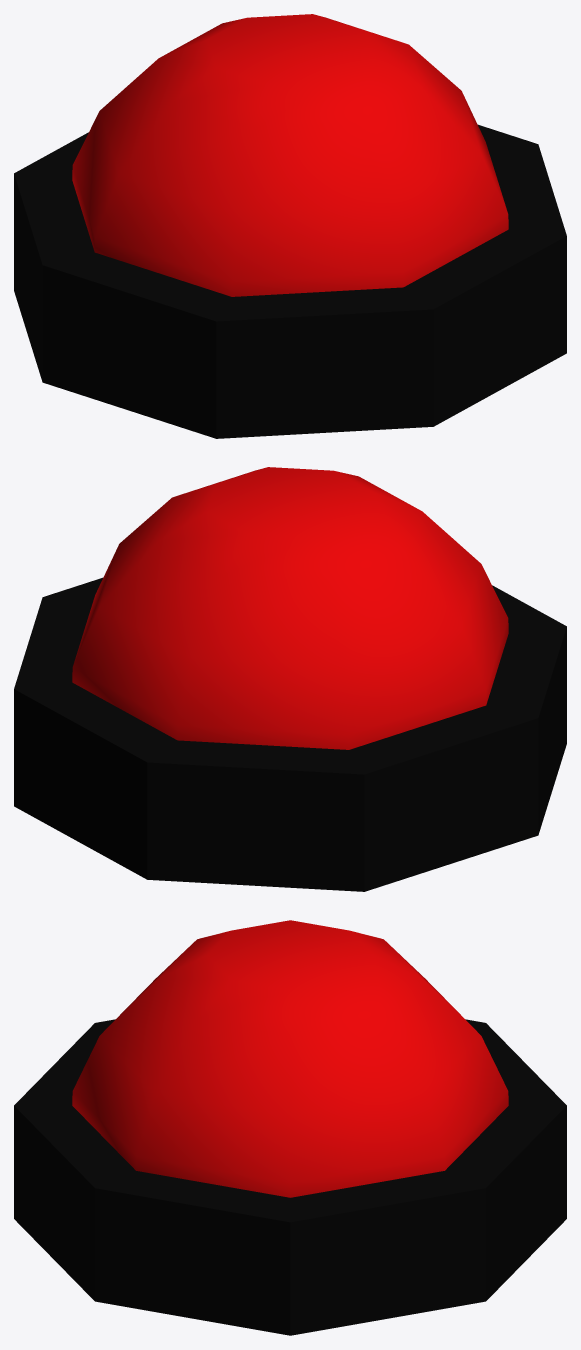
The model's file is SM_Redbutton_Morphtarget.fbx.
The picture shows the model from 3 angles, top to bottom: view 1: azimuth 30°, elevation 25°; view 2: azimuth 150°, elevation 25°; view 3: azimuth 270°, elevation 25°; orthographic projection. The views are drawn at different scales.
Visible parts, largest first — view 1: SM_Button; view 2: SM_Button; view 3: SM_Button.
Boxes of the visible parts, x1,y1,x2,y2 form: SM_Button: (14, 14, 566, 438); SM_Button: (14, 467, 566, 891); SM_Button: (14, 920, 566, 1335).
Bounding box in the file's own units: 26.53 × 13.95 × 26.53.
